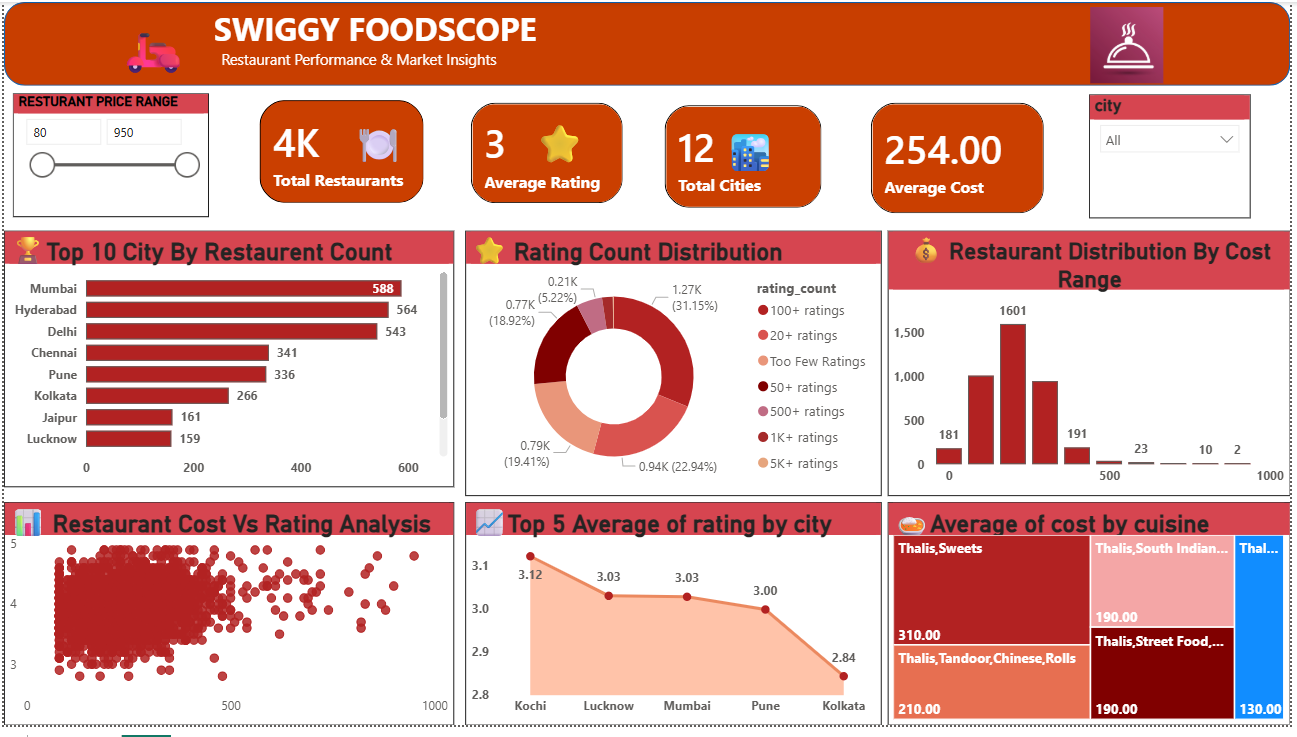

What the dashboard file says about the page in this screenshot:
{"tool":"powerbi","page":{"name":"Page 1","canvas":[1280,720],"ordinal":0},"visuals":[{"type":"cardVisual","fields":{"Data":["dax queries.Total Restaurants"]},"box":[374.4,83.3,221.4,136.8],"z":0},{"type":"cardVisual","fields":{"Data":["dax queries.Total_cities"]},"box":[823.5,77.1,225.2,143.1],"z":1000},{"type":"cardVisual","fields":{"Data":["dax queries.AVG_RATING"]},"box":[595.9,83.3,227.6,130.6],"z":2000},{"type":"cardVisual","fields":{"Data":["dax queries.AVG COST"]},"box":[1048.7,83.3,214,134.3],"z":3000},{"type":"barChart","title":"🏆TOP 10 CITY BY RESTAURENT COUNT","fields":{"Category":["swiggy resturent raw data.city"],"Y":["Count(swiggy resturent raw data.id)"]},"box":[0,227.6,447.8,255],"z":4000},{"type":"areaChart","title":"📈 Top 5 Average of rating by city","fields":{"Category":["swiggy resturent raw data.city"],"Y":["Avg(swiggy resturent raw data.rating)"]},"box":[459,497.6,414.2,222.7],"z":5000},{"type":"clusteredColumnChart","title":"💰Restaurant Distribution By Cost Range","fields":{"Category":["swiggy resturent raw data.cost (bins)"],"Y":["CountNonNull(swiggy resturent raw data.id)"]},"box":[879.5,227.6,400.6,263.7],"z":6000},{"type":"scatterChart","title":"📊 Restaurant Cost Vs Rating Analysis","fields":{"Category":["swiggy resturent raw data.id"],"X":["Avg(swiggy resturent raw data.cost)"],"Y":["Avg(swiggy resturent raw data.rating)"]},"box":[0,497.6,447.8,222.7],"z":7000},{"type":"donutChart","title":"⭐Rating Count Distribution","fields":{"Category":["swiggy resturent raw data.rating_count"],"Y":["CountNonNull(swiggy resturent raw data.id)"]},"box":[459,227.6,414.2,263.7],"z":8000},{"type":"treemap","title":"🍛   Average of cost by cuisine","fields":{"Group":["swiggy resturent raw data.cuisine"],"Values":["Avg(swiggy resturent raw data.cost)"]},"box":[879.5,497.6,400.6,222.7],"z":9000},{"type":"slicer","title":"📍CITY","fields":{"Values":["swiggy resturent raw data.city"]},"box":[214,90.8,160.5,123.2],"z":10000},{"type":"shape","box":[0,0,1280,83.3],"z":11000},{"type":"textbox","box":[0,0,906.8,52.2],"z":12000},{"type":"textbox","box":[250,42.3,408,41.1],"z":13000},{"type":"slicer","title":"RESTURANT PRICE RANGE 🏙️","fields":{"Values":["swiggy resturent raw data.cost"]},"box":[8.7,90.8,195.3,123.2],"z":13001},{"type":"textbox","box":[237.6,0,109.5,83.3],"z":13002},{"type":"textbox","box":[454,102,77.1,90.8],"z":13003},{"type":"textbox","box":[696.6,90.8,95.8,93.3],"z":13004},{"type":"textbox","box":[906.8,102,108.2,69.7],"z":13005},{"type":"image","box":[420.5,0,500.1,77.1],"z":13006}]}

Visuals, with their boxes in screenshot pixels (x1, y1, x2, y2), scaled from the page's 1280x720 canvas onto the 1297x737 screenshot:
cardVisual - dax queries.Total Restaurants: 379,85,604,225
cardVisual - dax queries.Total_cities: 834,79,1063,225
cardVisual - dax queries.AVG_RATING: 604,85,834,219
cardVisual - dax queries.AVG COST: 1063,85,1279,223
"🏆TOP 10 CITY BY RESTAURENT COUNT" barChart: 0,233,454,494
"📈 Top 5 Average of rating by city" areaChart: 465,509,885,736
"💰Restaurant Distribution By Cost Range" clusteredColumnChart: 891,233,1296,503
"📊 Restaurant Cost Vs Rating Analysis" scatterChart: 0,509,454,736
"⭐Rating Count Distribution" donutChart: 465,233,885,503
"🍛   Average of cost by cuisine" treemap: 891,509,1296,736
"📍CITY" slicer: 217,93,379,219
shape: 0,0,1296,85
textbox: 0,0,919,53
textbox: 253,43,667,85
"RESTURANT PRICE RANGE 🏙️" slicer: 9,93,207,219
textbox: 241,0,352,85
textbox: 460,104,538,197
textbox: 706,93,803,188
textbox: 919,104,1028,176
image: 426,0,933,79
